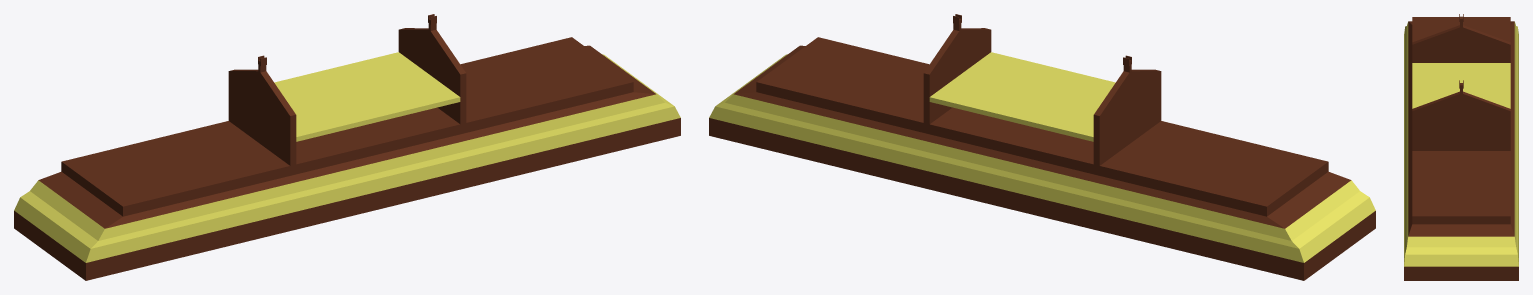
Rendered from Sword Holder.fbx.
3 views of the same model, side by side, from view 1: azimuth 30°, elevation 25°; view 2: azimuth 150°, elevation 25°; view 3: azimuth 270°, elevation 25° (orthographic). The views are drawn at different scales.
Parts seen in each view (by area): view 1: Cube; view 2: Cube; view 3: Cube.
Boxes of the visible parts, box(x1,y1,x2,y2) form: Cube: box(14, 14, 680, 280); Cube: box(709, 14, 1375, 280); Cube: box(1404, 14, 1518, 280).
Size of the model in its own units: 199 by 46.55 by 41.6.
